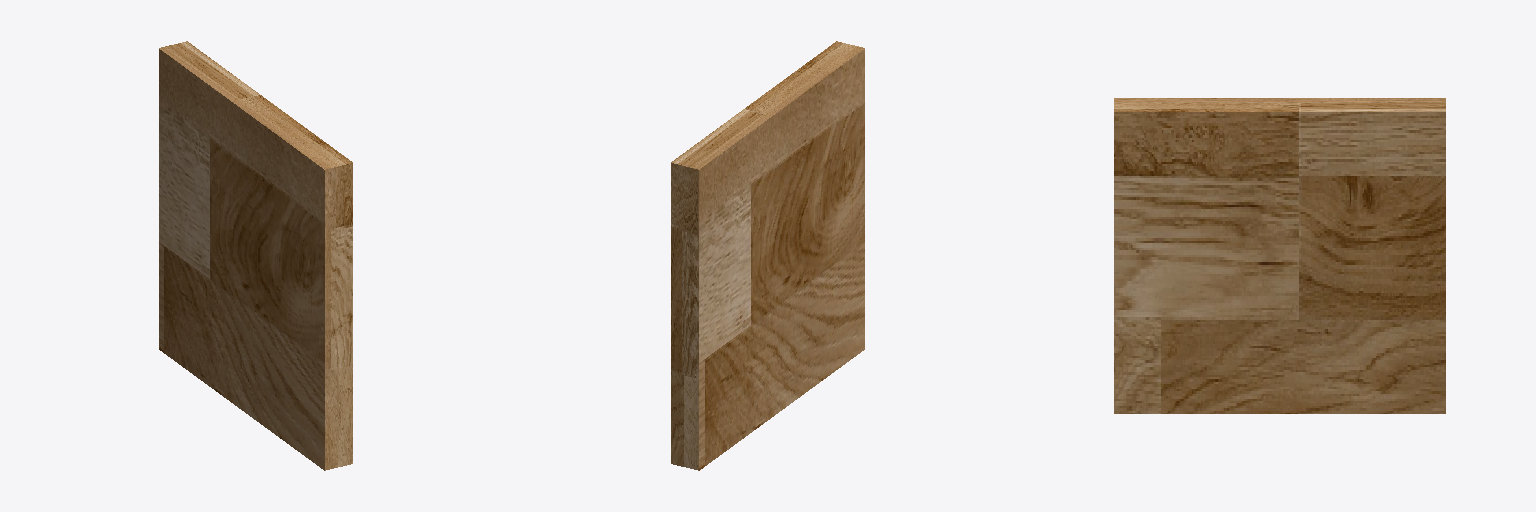
3 views of the same model, side by side, from view 1: azimuth 30°, elevation 25°; view 2: azimuth 150°, elevation 25°; view 3: azimuth 270°, elevation 25° (orthographic).
Visible parts, largest first — view 1: Cube_Cube.003; view 2: Cube_Cube.003; view 3: Cube_Cube.003.
Part boxes in pixels (left/top/right/bottom): Cube_Cube.003: left=159, top=41, right=352, bottom=470; Cube_Cube.003: left=671, top=41, right=864, bottom=470; Cube_Cube.003: left=1114, top=98, right=1445, bottom=413.
Size of the model in its own units: 0.2 by 2 by 2.
Materials: 1 (1 with a texture image).